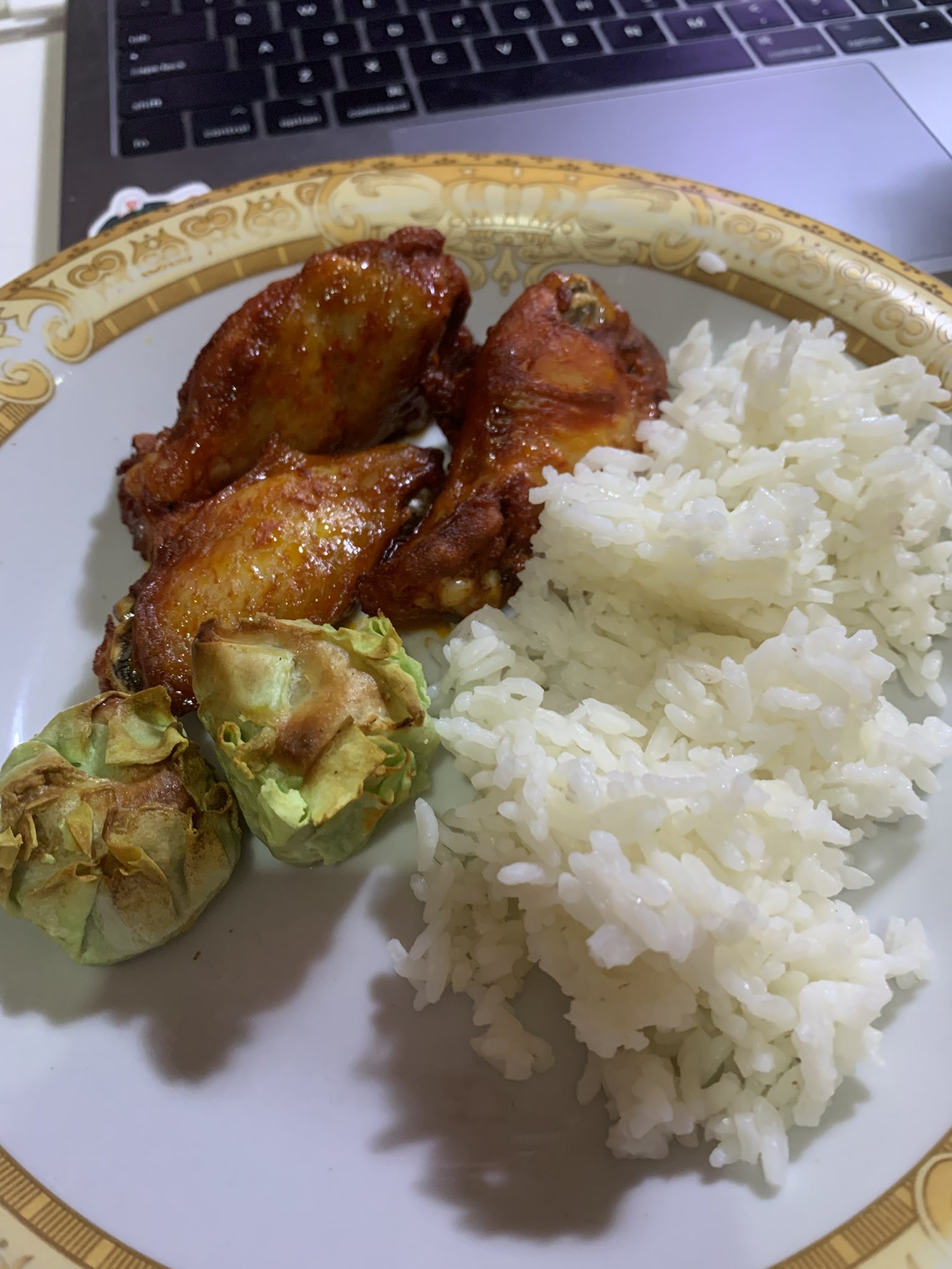buah_sayur_lainnya: (29, 632, 401, 957)
daging: (122, 279, 513, 627)
makanan_berpati: (524, 412, 925, 1063)
